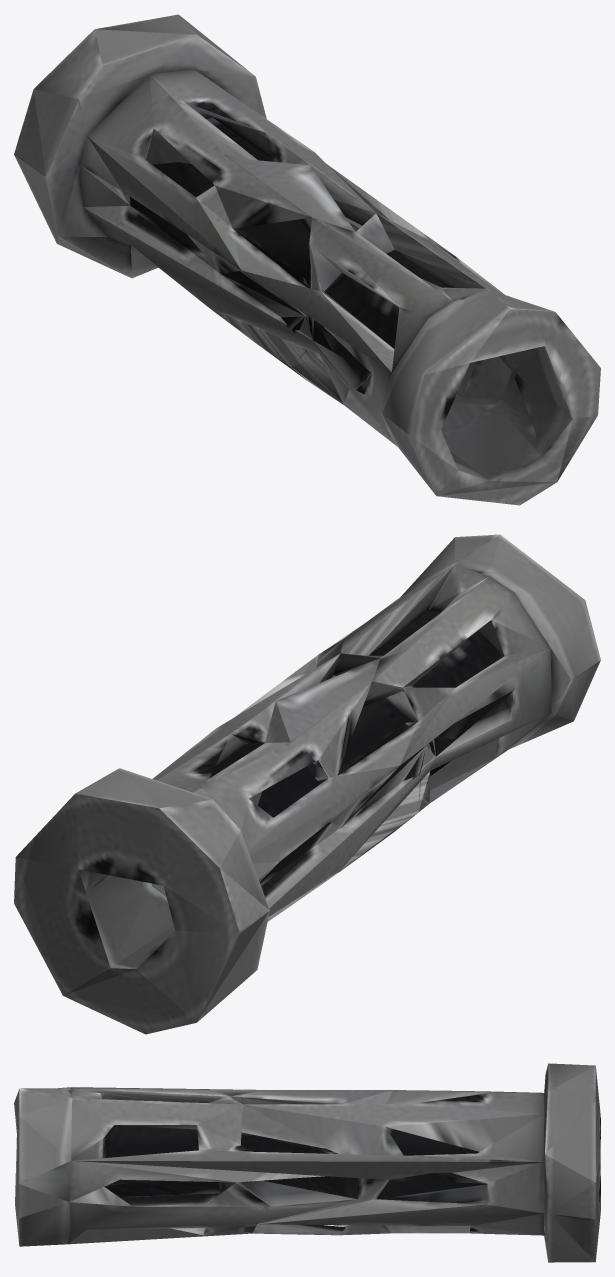
File: shared_flak_tower_compact_option__barrel_lod2.glb
The picture shows the model from 3 angles, top to bottom: view 1: azimuth 30°, elevation 25°; view 2: azimuth 150°, elevation 25°; view 3: azimuth 270°, elevation 25°; orthographic projection. The views are drawn at different scales.
Parts seen in each view (by area): view 1: mesh_node; view 2: mesh_node; view 3: mesh_node.
Part boxes in pixels (<box>): mesh_node: <box>14,14,600,505</box>; mesh_node: <box>14,534,600,1034</box>; mesh_node: <box>14,1063,600,1262</box>.
Bounding box in the file's own units: 0.6013 × 0.582 × 1.77.
1 material, 1 textured.
